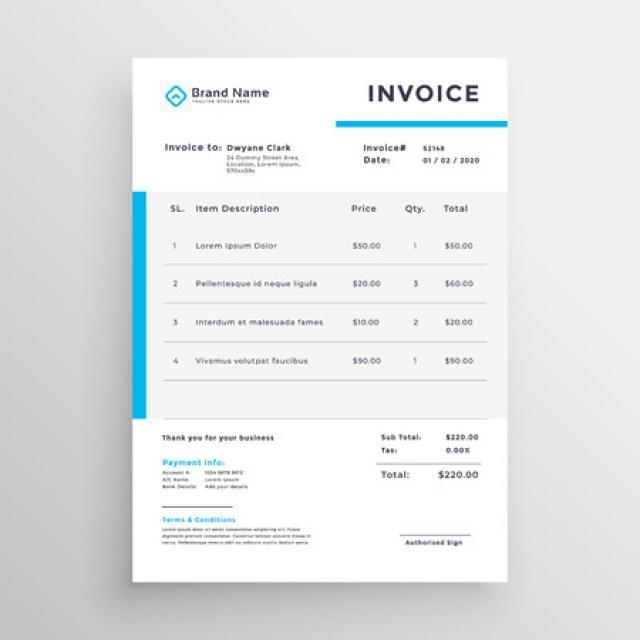customer_name: (224, 140, 300, 153)
invoice_date: (418, 154, 483, 168)
invoice_number: (421, 139, 452, 153)
invoice_subtotal: (442, 427, 480, 443)
invoice_total: (435, 467, 483, 483)
item_description: (188, 236, 325, 379)
item_quantity: (400, 228, 425, 378)
item_total_price: (440, 235, 480, 385)
item_unit_price: (342, 235, 388, 381)
supplier_name: (188, 82, 274, 108)
tax_rate: (443, 445, 477, 457)
